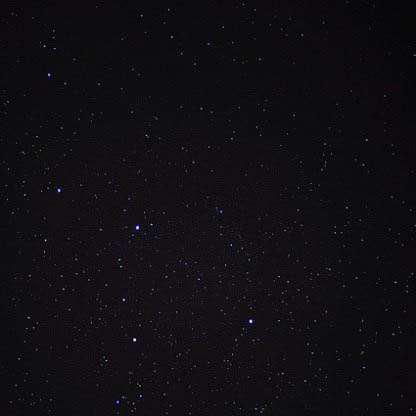Cassiopeia: (114, 294, 154, 349), (37, 173, 71, 206), (36, 62, 59, 87), (125, 214, 148, 238), (239, 309, 262, 333)
